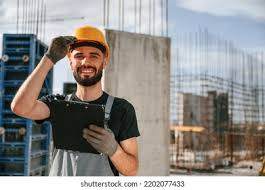casque: (21, 24, 146, 154)
